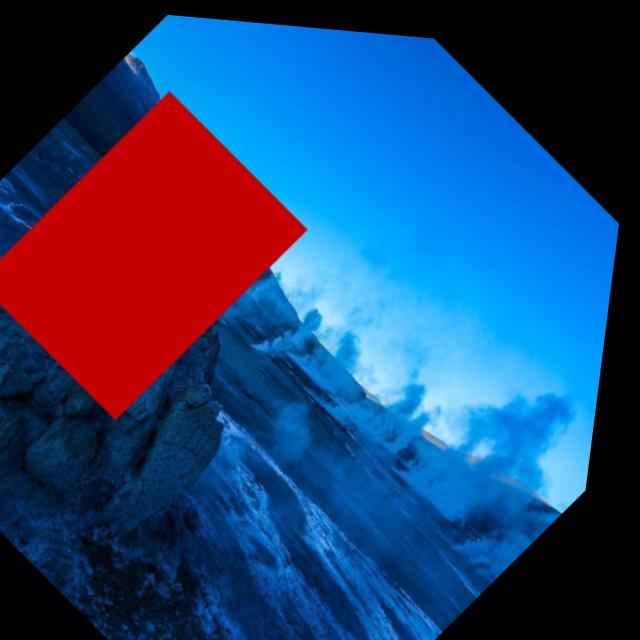RedSquare: (0, 70, 332, 435)
